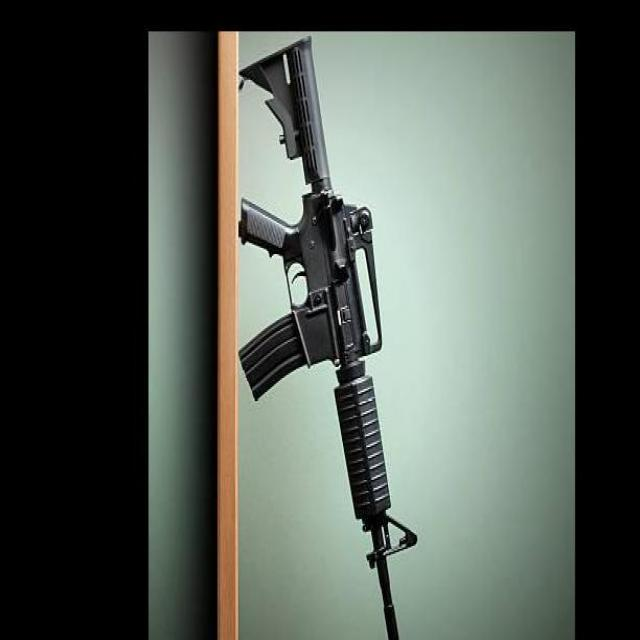weapon: (237, 34, 417, 640)
